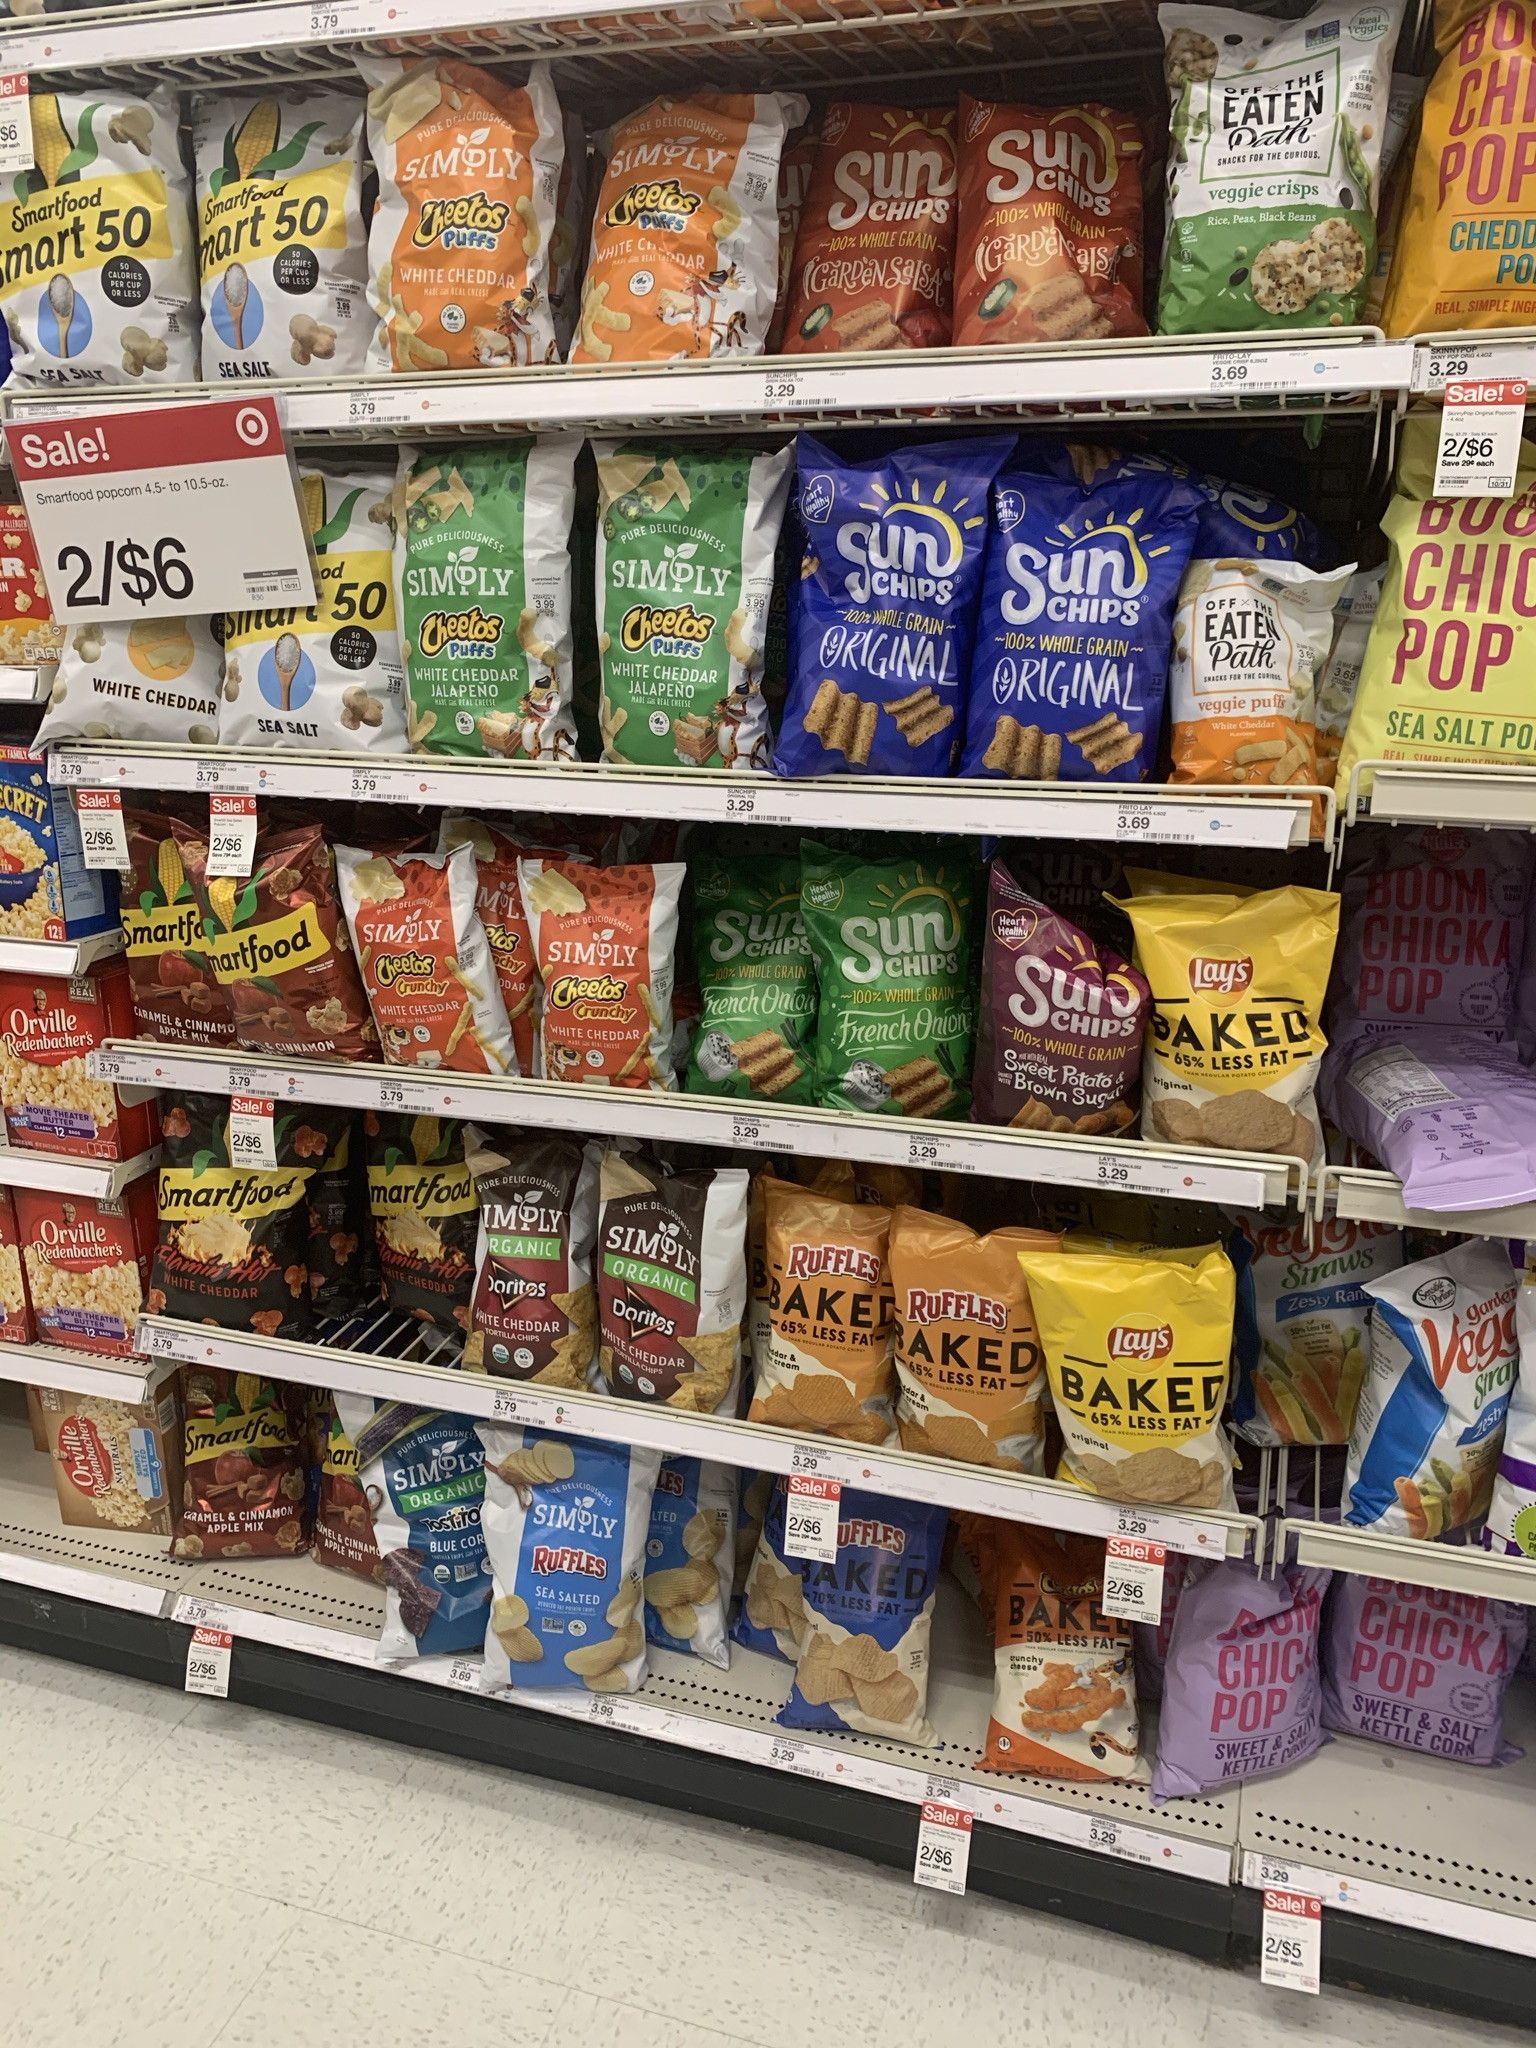chip: (582, 90, 799, 364), (382, 69, 570, 364), (978, 461, 1154, 769), (1021, 1255, 1239, 1498), (597, 448, 758, 768), (786, 97, 978, 360), (1149, 900, 1339, 1164), (224, 469, 399, 755), (402, 448, 560, 756), (794, 440, 942, 764), (19, 90, 177, 389), (803, 840, 963, 1126), (963, 97, 1142, 348), (771, 1508, 954, 1743), (486, 1440, 657, 1684), (215, 98, 365, 376), (1170, 572, 1360, 789), (884, 1218, 1039, 1480), (749, 1180, 899, 1443), (345, 1405, 492, 1664), (992, 877, 1134, 1142), (983, 1542, 1146, 1771), (340, 843, 499, 1076), (597, 1156, 726, 1414), (523, 864, 671, 1087), (197, 843, 340, 1059), (466, 1143, 586, 1385), (699, 871, 805, 1100)
